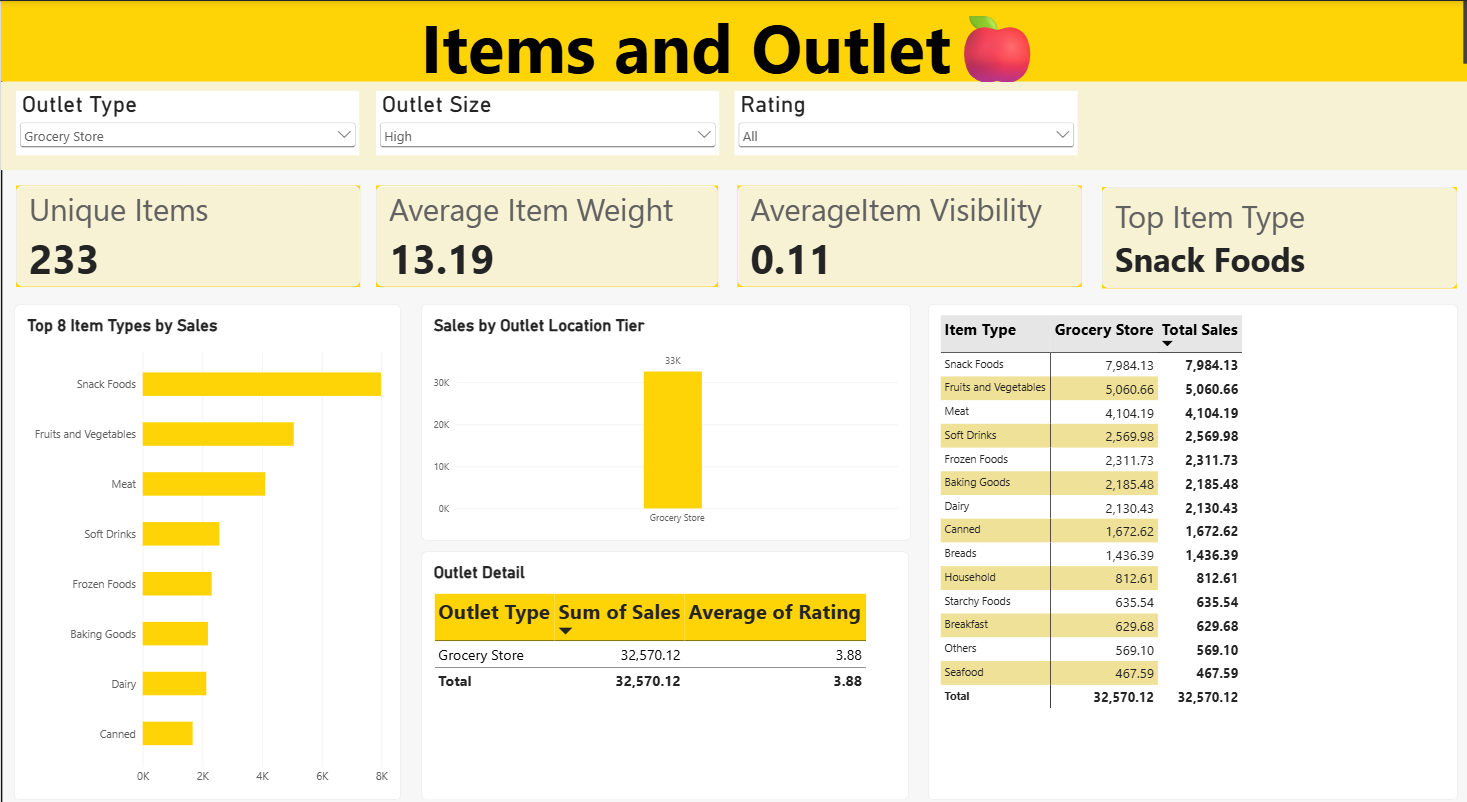

This screenshot's page, from the dashboard's own definition file:
{"tool":"powerbi","page":{"name":"Items & Outlet","canvas":[1920,1080],"ordinal":1},"visuals":[{"type":"textbox","box":[0,0,1920,105.6],"z":0},{"type":"shape","box":[0,105.6,1920,115.2],"z":1},{"type":"slicer","fields":{"Values":["Blinkit Grocery Data.Outlet Type"]},"box":[19.2,117.6,448.8,84],"z":2},{"type":"slicer","fields":{"Values":["Blinkit Grocery Data.Outlet Size"]},"box":[489.6,117.6,448.8,84],"z":3},{"type":"slicer","fields":{"Values":["Blinkit Grocery Data.Rating"]},"box":[960,117.6,448.8,84],"z":4},{"type":"cardVisual","fields":{"Data":["Count(Blinkit Grocery Data.Item Identifier)"]},"box":[18.9,241.6,450,132.6],"z":5},{"type":"cardVisual","fields":{"Data":["Avg(Blinkit Grocery Data.Item Weight)"]},"box":[490.3,241.6,447.6,132.6],"z":6},{"type":"cardVisual","fields":{"Data":["Avg(Blinkit Grocery Data.Item Visibility)"]},"box":[964,241.6,450,132.6],"z":7},{"type":"cardVisual","fields":{"Data":["Min(Blinkit Grocery Data.Item Type)"]},"box":[1440,242.3,464,132.6],"z":8},{"type":"barChart","title":"Top 8 Item Types by Sales","fields":{"Category":["Blinkit Grocery Data.Item Type"],"Y":["Sum(Blinkit Grocery Data.Sales)"]},"box":[18.3,395.4,505.1,649.1],"z":9},{"type":"columnChart","title":"Sales by Outlet Location Tier","fields":{"Category":["Blinkit Grocery Data.Outlet Type"],"Y":["Sum(Blinkit Grocery Data.Sales)"]},"box":[548.6,395.4,640.8,309.6],"z":10},{"type":"tableEx","title":"Outlet Detail","fields":{"Values":["Blinkit Grocery Data.Outlet Type","Sum(Blinkit Grocery Data.Sales)","Avg(Blinkit Grocery Data.Rating)"]},"box":[549.7,720,638.2,324.8],"z":11},{"type":"pivotTable","fields":{"Columns":["Blinkit Grocery Data.Outlet Type"],"Rows":["Blinkit Grocery Data.Item Type"],"Values":["Sum(Blinkit Grocery Data.Sales)"]},"box":[1211.4,395.4,692.6,649.1],"z":13}]}

Visuals, with their boxes in screenshot pixels (x1, y1, x2, y2), scaled from the page's 1920x1080 canvas onto the 1467x802 screenshot:
textbox: crop(0, 0, 1466, 78)
shape: crop(0, 78, 1466, 164)
slicer - Blinkit Grocery Data.Outlet Type: crop(15, 87, 358, 150)
slicer - Blinkit Grocery Data.Outlet Size: crop(374, 87, 717, 150)
slicer - Blinkit Grocery Data.Rating: crop(734, 87, 1076, 150)
cardVisual - Count(Blinkit Grocery Data.Item Identifier): crop(14, 179, 358, 278)
cardVisual - Avg(Blinkit Grocery Data.Item Weight): crop(375, 179, 717, 278)
cardVisual - Avg(Blinkit Grocery Data.Item Visibility): crop(737, 179, 1080, 278)
cardVisual - Min(Blinkit Grocery Data.Item Type): crop(1100, 180, 1455, 278)
"Top 8 Item Types by Sales" barChart: crop(14, 294, 400, 776)
"Sales by Outlet Location Tier" columnChart: crop(419, 294, 909, 524)
"Outlet Detail" tableEx: crop(420, 535, 908, 776)
pivotTable - Blinkit Grocery Data.Outlet Type x Blinkit Grocery Data.Item Type: crop(926, 294, 1455, 776)
